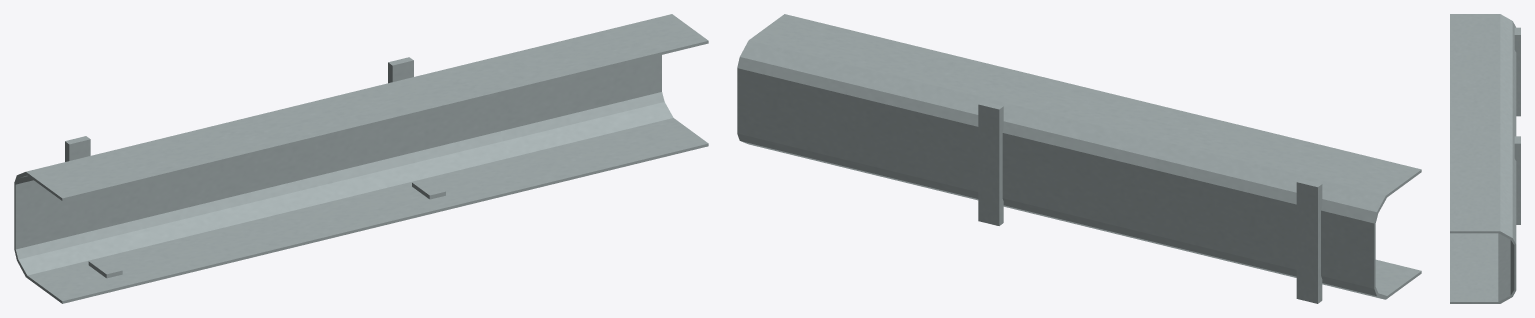
Rendered from Gutter_Straight_1m.glb.
3 renders of one model, left to right at view 1: azimuth 30°, elevation 25°; view 2: azimuth 150°, elevation 25°; view 3: azimuth 270°, elevation 25°, orthographic. The views are drawn at different scales.
Parts seen in each view (by area): view 1: Corrugated_Seamless_Gutter_Shell, Gutter_Hanger_Strap_02, Gutter_Hanger_Strap_01; view 2: Corrugated_Seamless_Gutter_Shell, Gutter_Hanger_Strap_01, Gutter_Hanger_Strap_02; view 3: Corrugated_Seamless_Gutter_Shell, Gutter_Hanger_Strap_01, Gutter_Hanger_Strap_02.
Boxes of the visible parts, x1,y1,x2,y2 form: Corrugated_Seamless_Gutter_Shell: (14, 14, 708, 303); Gutter_Hanger_Strap_02: (388, 57, 413, 83); Gutter_Hanger_Strap_01: (65, 136, 90, 161); Corrugated_Seamless_Gutter_Shell: (737, 14, 1421, 299); Gutter_Hanger_Strap_01: (1296, 179, 1322, 303); Gutter_Hanger_Strap_02: (978, 101, 1003, 225); Corrugated_Seamless_Gutter_Shell: (1450, 14, 1516, 303); Gutter_Hanger_Strap_01: (1514, 27, 1520, 116); Gutter_Hanger_Strap_02: (1514, 136, 1520, 224).
Bounding box in the file's own units: 1 × 0.178 × 0.138.
2 materials, 2 textured.
